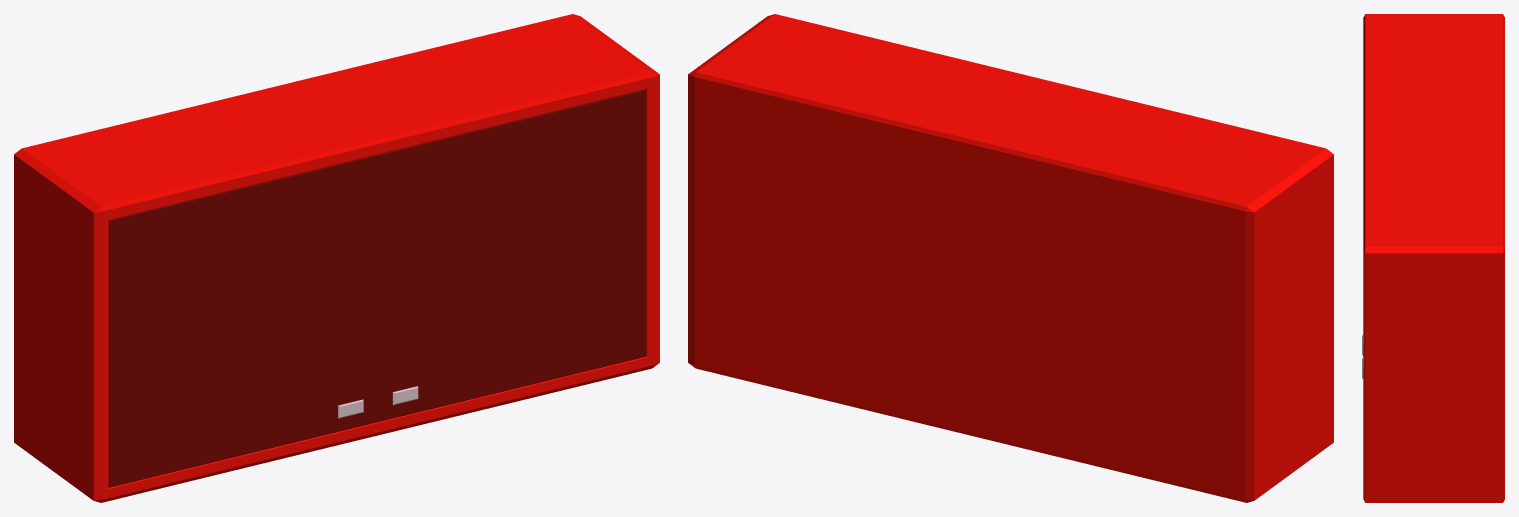
Rendered from mechanicalcabinet.fbx.
3 renders of one model, left to right at view 1: azimuth 30°, elevation 25°; view 2: azimuth 150°, elevation 25°; view 3: azimuth 270°, elevation 25°, orthographic. The views are drawn at different scales.
Visible parts, largest first — view 1: Cube; view 2: Cube; view 3: Cube.
Boxes of the visible parts, x1=… form: Cube: x1=14, y1=14, x2=659, y2=502; Cube: x1=688, y1=14, x2=1333, y2=502; Cube: x1=1362, y1=14, x2=1504, y2=502.
Bounding box in the file's own units: 400 × 200 × 101.
